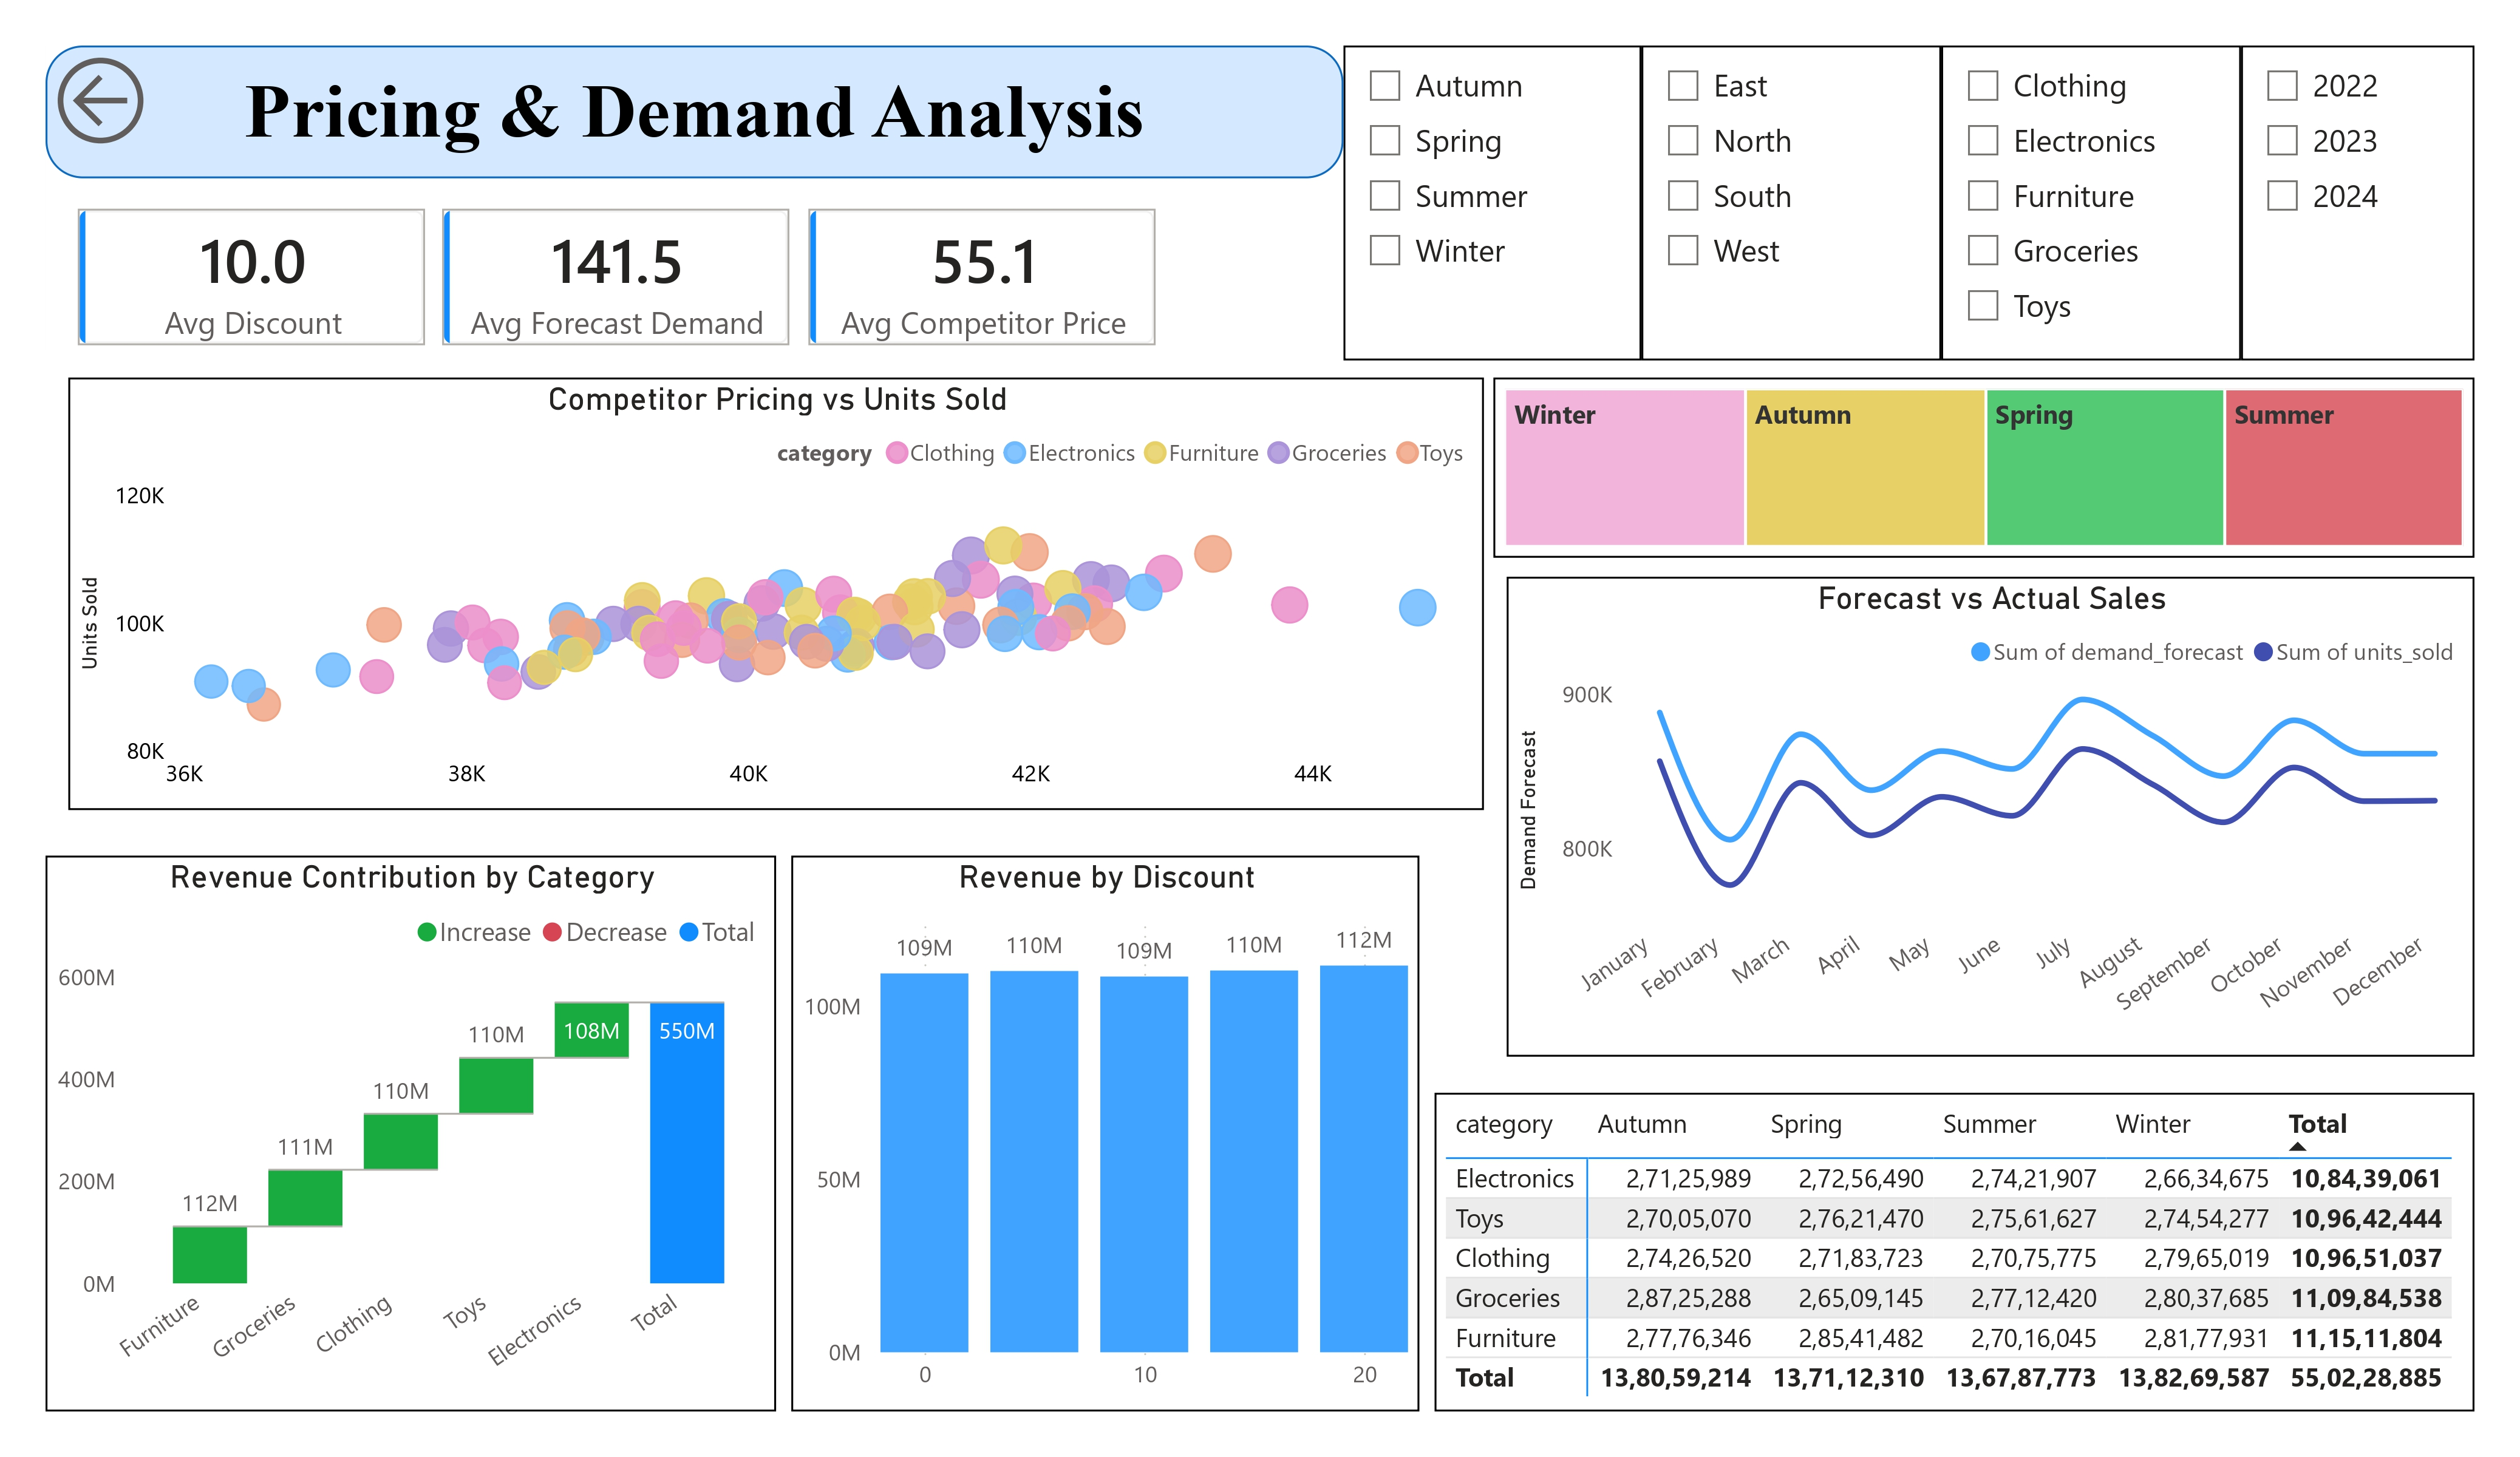

What the dashboard file says about the page in this screenshot:
{"tool":"powerbi","page":{"name":"Pricing & Demand Analysis","canvas":[1280,720],"ordinal":3},"visuals":[{"type":"cardVisual","fields":{"Data":["Measures (2).Average Competitor Price"]},"box":[384.6,69.5,217.1,105.4],"z":0},{"type":"cardVisual","fields":{"Data":["Measures (2).Average Discount"]},"box":[0,69.5,217.1,105.4],"z":1000},{"type":"cardVisual","fields":{"Data":["Measures (2).Average Forecast Demand"]},"box":[192.3,69.5,217.1,105.4],"z":2000},{"type":"slicer","fields":{"Values":["public fact_retail_inventory.year"]},"box":[1157.4,0,122.8,166.2],"z":3000},{"type":"slicer","fields":{"Values":["public fact_retail_inventory.region"]},"box":[841.1,0,157.6,166.2],"z":4000},{"type":"slicer","fields":{"Values":["public fact_retail_inventory.seasonality"]},"box":[683.5,0,157.6,166.2],"z":5000},{"type":"slicer","fields":{"Values":["public fact_retail_inventory.category"]},"box":[998.6,0,158.8,166.2],"z":6000},{"type":"scatterChart","title":"Competitor Pricing vs Units Sold","fields":{"X":["Sum(public fact_retail_inventory.competitor_pricing)"],"Y":["Sum(public fact_retail_inventory.units_sold)"],"Category":["public fact_retail_inventory.product_id"],"Series":["public fact_retail_inventory.category"],"Size":["Sum(public fact_retail_inventory.revenue)"]},"box":[12.4,174.9,745.6,228.3],"z":7000},{"type":"lineChart","title":"Forecast vs Actual Sales","fields":{"Y":["Sum(public fact_retail_inventory.demand_forecast)","Sum(public fact_retail_inventory.units_sold)"],"Category":["Date.Month Name"]},"box":[770.4,280.4,509.9,253.1],"z":8000},{"type":"clusteredColumnChart","title":"Revenue by Discount","fields":{"Category":["public fact_retail_inventory.discount"],"Y":["Sum(public fact_retail_inventory.revenue)"]},"box":[393.3,426.8,331.2,292.8],"z":9000},{"type":"treemap","fields":{"Group":["public fact_retail_inventory.seasonality"],"Values":["Sum(public fact_retail_inventory.revenue)"]},"box":[762.9,174.9,517.3,95.5],"z":10000},{"type":"waterfallChart","title":"Revenue Contribution by Category","fields":{"Category":["public fact_retail_inventory.category"],"Y":["Sum(public fact_retail_inventory.revenue)"]},"box":[0,426.8,384.6,292.8],"z":11000},{"type":"pivotTable","fields":{"Rows":["public fact_retail_inventory.category"],"Columns":["public fact_retail_inventory.seasonality"],"Values":["Sum(public fact_retail_inventory.revenue)"]},"box":[731.9,552,548.3,167.5],"z":12000},{"type":"shape","box":[0,0,683.6,69.7],"z":13000},{"type":"actionButton","box":[0,0,100.5,58.3],"z":13001}]}

Visuals, with their boxes in screenshot pixels (x1, y1, x2, y2):
cardVisual - Measures (2).Average Competitor Price: 779 176 1186 373
cardVisual - Measures (2).Average Discount: 59 176 466 373
cardVisual - Measures (2).Average Forecast Demand: 419 176 826 373
slicer - public fact_retail_inventory.year: 2227 46 2456 357
slicer - public fact_retail_inventory.region: 1634 46 1929 357
slicer - public fact_retail_inventory.seasonality: 1339 46 1634 357
slicer - public fact_retail_inventory.category: 1929 46 2227 357
"Competitor Pricing vs Units Sold" scatterChart: 83 373 1479 801
"Forecast vs Actual Sales" lineChart: 1502 571 2457 1045
"Revenue by Discount" clusteredColumnChart: 795 845 1416 1393
treemap - public fact_retail_inventory.seasonality x Sum(public fact_retail_inventory.revenue): 1488 373 2456 552
"Revenue Contribution by Category" waterfallChart: 59 845 779 1393
pivotTable - public fact_retail_inventory.category x public fact_retail_inventory.seasonality: 1429 1079 2456 1393
shape: 59 46 1340 177
actionButton: 59 46 247 155
